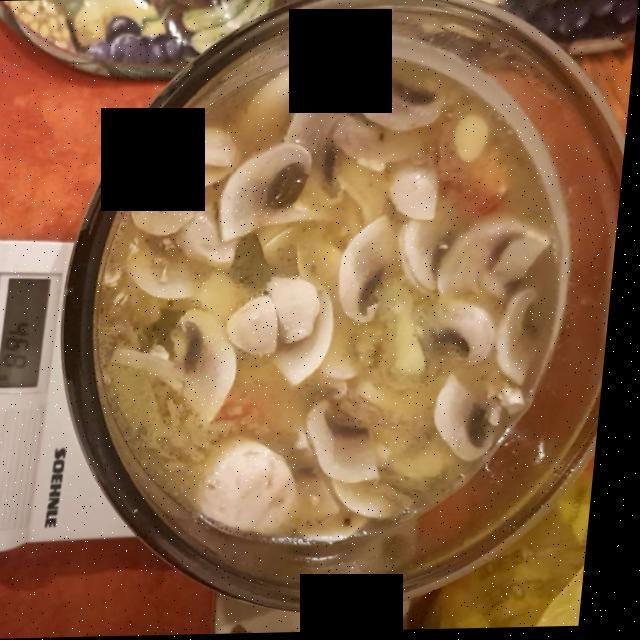bouillon: (112, 66, 560, 534)
mushroom: (118, 56, 553, 558)
